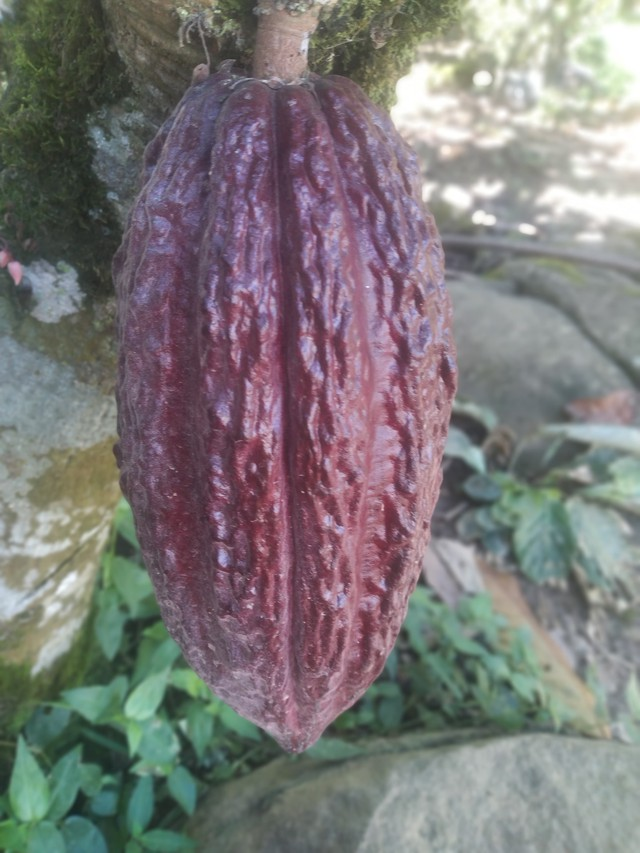Health: (76, 43, 473, 756)
